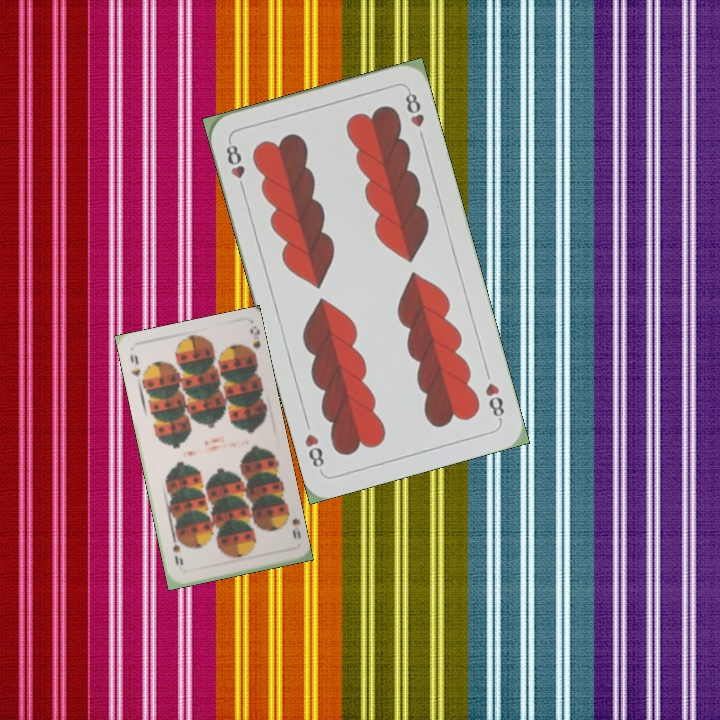H8: (222, 136, 248, 195), (481, 378, 507, 424)
S9: (281, 507, 299, 541), (126, 350, 143, 380)
